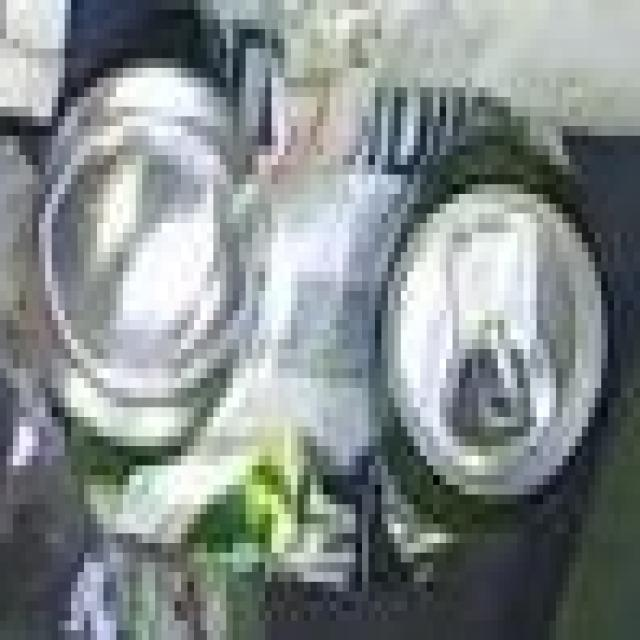litter: (4, 71, 638, 605)
